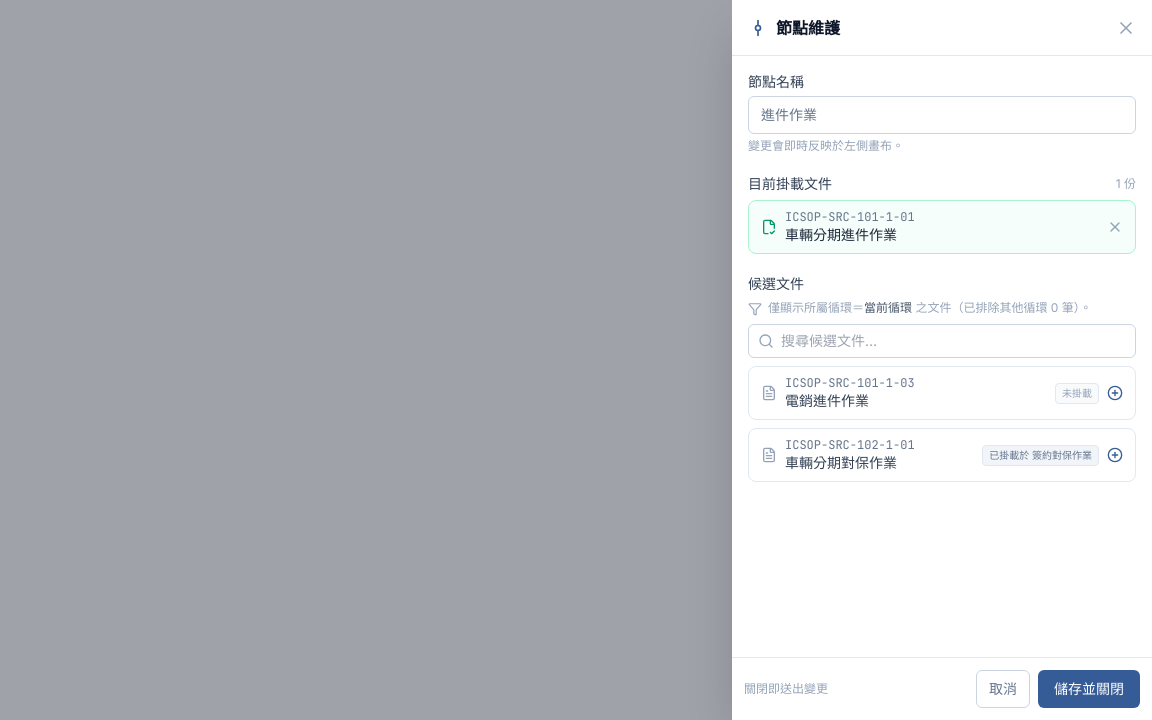
Test: NodeDrawer — F009 節點抽屜（文件掛載） › 草稿中移除掛載之文件 → 候選區徽章回落「未掛載」（徽章鍵於草稿狀態）
The width and height of the screenshot is (1152, 720).
Check: the text "ICSOP-SRC-101-1-01" is shown, box 785,209 -> 915,225
Click the button named "移除掛載" at (1115, 227), box 1107,219 -> 1123,235
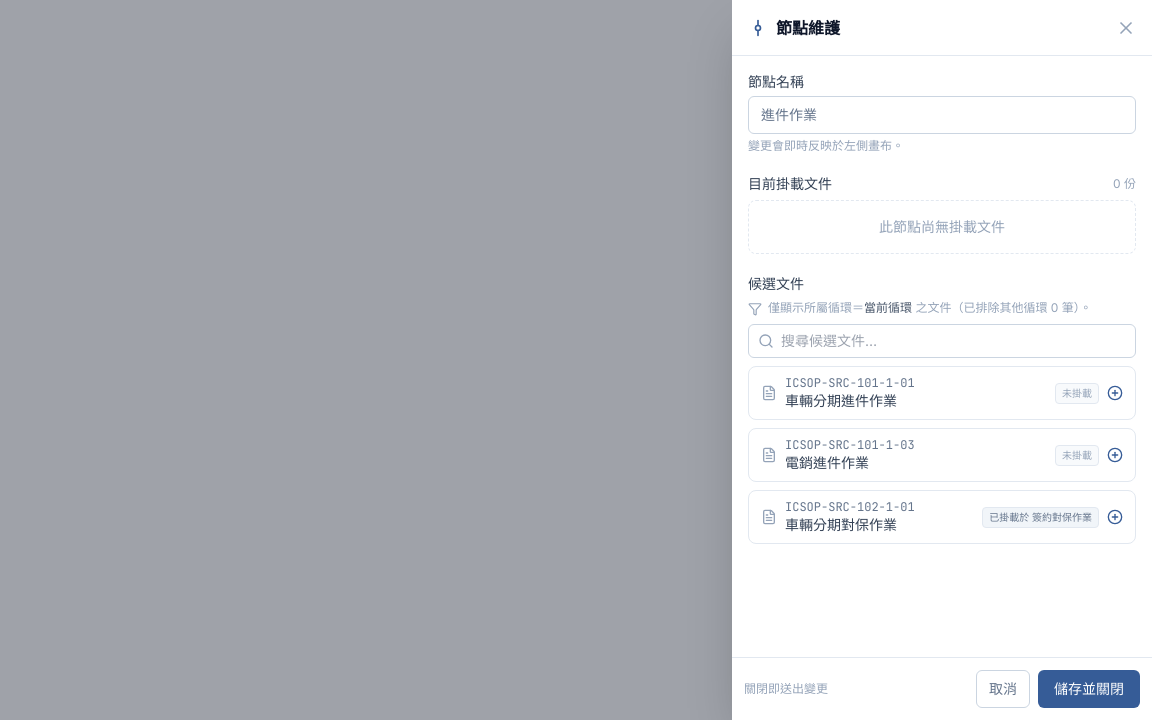
Check: the text "未掛載" is shown 2 times, box 1055,382 -> 1099,404; 1055,444 -> 1099,466
